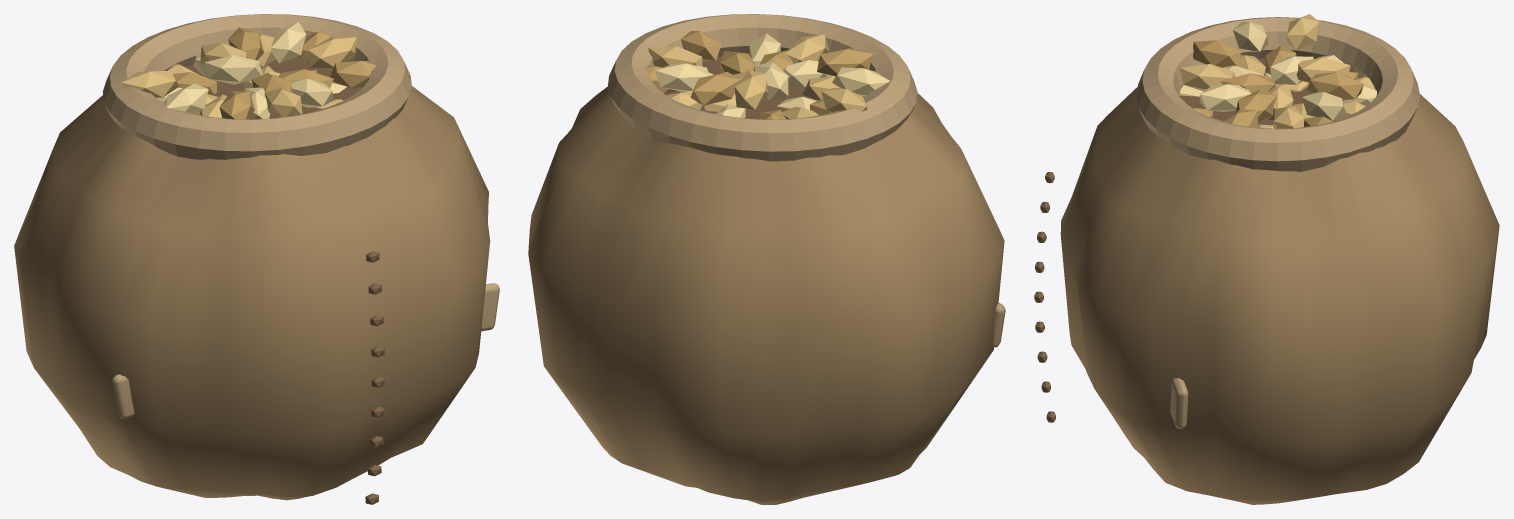
The model's file is saco_grao.glb.
3 views of the same model, side by side, from view 1: azimuth 30°, elevation 25°; view 2: azimuth 150°, elevation 25°; view 3: azimuth 270°, elevation 25° (orthographic).
Visible parts, largest first — view 1: Saco de grãos de juta, Boca dobrada do saco, Interior escuro, Grão 01, Grão 21, Grão 30, Grão 16, Grão 26, Grão 25, Grão 10, Grão 15, Grão 20 (+5 smaller); view 2: Saco de grãos de juta, Boca dobrada do saco, Grão 11, Grão 16, Grão 25, Grão 20, Grão 06, Interior escuro, Grão 15, Grão 21, Grão 30, Grão 26 (+5 smaller); view 3: Saco de grãos de juta, Boca dobrada do saco, Grão 11, Grão 10, Grão 20, Grão 15, Grão 16, Grão 30, Grão 06, Grão 25, Remendo costurado.001, Grão 01 (+4 smaller).
Part boxes in pixels (bbox=[...]): Saco de grãos de juta: bbox=[14, 86, 490, 500]; Boca dobrada do saco: bbox=[103, 14, 411, 159]; Interior escuro: bbox=[185, 56, 362, 118]; Grão 01: bbox=[204, 55, 262, 84]; Grão 21: bbox=[308, 37, 357, 67]; Grão 30: bbox=[121, 70, 178, 97]; Grão 16: bbox=[271, 22, 306, 63]; Grão 26: bbox=[330, 60, 375, 87]; Grão 25: bbox=[165, 83, 208, 113]; Grão 10: bbox=[291, 78, 333, 107]; Grão 15: bbox=[264, 88, 302, 117]; Grão 20: bbox=[219, 91, 254, 119]; Saco de grãos de juta: bbox=[528, 86, 1004, 504]; Boca dobrada do saco: bbox=[607, 14, 917, 161]; Grão 11: bbox=[690, 71, 739, 105]; Grão 16: bbox=[655, 63, 709, 91]; Grão 25: bbox=[832, 67, 889, 96]; Grão 20: bbox=[817, 48, 874, 76]; Grão 06: bbox=[734, 70, 768, 109]; Interior escuro: bbox=[665, 56, 865, 119]; Grão 15: bbox=[785, 34, 829, 63]; Grão 21: bbox=[648, 46, 702, 67]; Grão 30: bbox=[821, 87, 867, 112]; Grão 26: bbox=[681, 31, 721, 60]; Saco de grãos de juta: bbox=[1060, 87, 1499, 504]; Boca dobrada do saco: bbox=[1136, 17, 1419, 171]; Grão 11: bbox=[1307, 72, 1363, 100]; Grão 10: bbox=[1199, 84, 1251, 111]; Grão 20: bbox=[1193, 40, 1240, 67]; Grão 15: bbox=[1180, 64, 1234, 91]; Grão 16: bbox=[1301, 92, 1347, 120]; Grão 30: bbox=[1286, 14, 1319, 49]; Grão 06: bbox=[1296, 57, 1350, 82]; Grão 25: bbox=[1233, 22, 1268, 51]; Remendo costurado.001: bbox=[1170, 378, 1188, 429]; Grão 01: bbox=[1270, 56, 1313, 84].
Bounding box in the file's own units: 0.6864 × 0.6358 × 0.6621.
